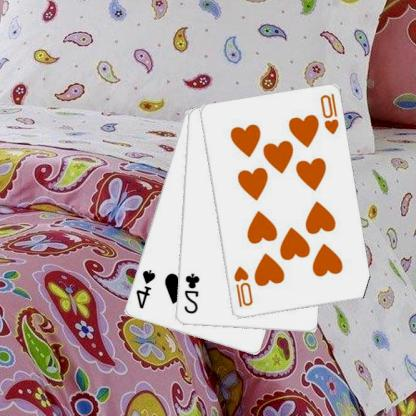10H: (318, 91, 341, 136), (233, 264, 256, 308)
2C: (182, 271, 203, 316)
4S: (134, 267, 159, 310)
